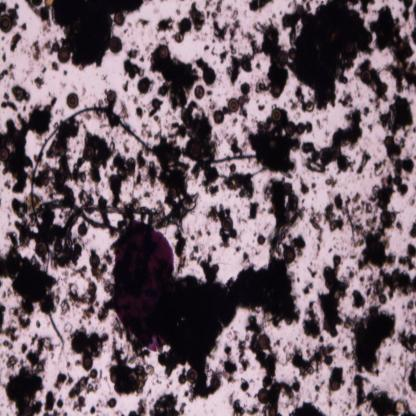Background material: (280, 0, 373, 110), (50, 0, 112, 69), (0, 246, 59, 315), (371, 7, 416, 90), (344, 305, 396, 374), (150, 135, 196, 208), (249, 117, 300, 175), (149, 51, 200, 107), (264, 180, 299, 260), (0, 115, 33, 196), (318, 108, 363, 164), (176, 102, 218, 162), (255, 18, 288, 88), (38, 211, 80, 265), (319, 266, 348, 336), (355, 223, 398, 270), (109, 344, 149, 394), (81, 130, 115, 183), (6, 368, 43, 414), (365, 270, 416, 302), (292, 342, 335, 378), (379, 95, 414, 138), (260, 374, 293, 416), (356, 59, 390, 99), (10, 197, 37, 247), (376, 174, 400, 230), (19, 332, 53, 371), (208, 204, 237, 249), (26, 97, 58, 137), (54, 157, 82, 201), (48, 121, 80, 159), (367, 391, 416, 415), (70, 329, 109, 356), (386, 146, 416, 177), (149, 392, 189, 415), (68, 280, 100, 308), (324, 193, 346, 233), (346, 195, 376, 224), (303, 301, 323, 344), (223, 174, 256, 200), (0, 301, 20, 343), (89, 264, 114, 295), (308, 204, 323, 254), (228, 53, 252, 84), (112, 152, 136, 181), (232, 372, 255, 401), (36, 166, 56, 198), (223, 345, 239, 385), (240, 30, 262, 58), (350, 375, 370, 405), (188, 1, 206, 34), (295, 83, 314, 112), (79, 303, 109, 321), (397, 327, 416, 355), (397, 244, 416, 272), (107, 175, 123, 208), (69, 378, 98, 396), (290, 400, 326, 414), (111, 0, 144, 14), (122, 59, 145, 79), (164, 121, 188, 139), (230, 9, 239, 56), (225, 132, 244, 154), (304, 157, 326, 176), (39, 0, 54, 27), (349, 0, 376, 15), (210, 21, 228, 43), (228, 392, 245, 415), (127, 397, 148, 415), (146, 162, 159, 190), (406, 360, 416, 396), (1, 92, 18, 113), (350, 288, 366, 310), (399, 0, 414, 23), (174, 232, 188, 256), (358, 148, 371, 173), (207, 1, 224, 20), (156, 18, 176, 34), (12, 84, 30, 101), (200, 182, 220, 197), (148, 97, 163, 117), (248, 0, 273, 12), (71, 394, 87, 412), (55, 368, 67, 392), (9, 32, 23, 52), (97, 115, 116, 129), (30, 40, 42, 62), (139, 122, 153, 140), (117, 100, 129, 121), (44, 390, 56, 411), (153, 116, 163, 140), (56, 298, 71, 314), (247, 202, 260, 220), (190, 245, 202, 264), (9, 3, 18, 28), (373, 159, 387, 174), (218, 48, 229, 66), (134, 170, 145, 188), (325, 174, 339, 188), (301, 139, 316, 152), (70, 266, 86, 278), (302, 281, 314, 297), (18, 316, 31, 330), (126, 47, 140, 60), (188, 228, 203, 240), (300, 178, 310, 196), (6, 354, 17, 370), (407, 219, 416, 238), (2, 336, 14, 350), (290, 380, 302, 394), (136, 16, 151, 27), (48, 57, 59, 72), (137, 150, 146, 168), (195, 58, 208, 70), (42, 39, 52, 54), (8, 62, 15, 82), (63, 320, 73, 334), (239, 107, 249, 120), (410, 24, 416, 45), (308, 266, 318, 278), (34, 76, 44, 88), (66, 372, 74, 386), (406, 297, 414, 311), (240, 252, 250, 263), (299, 204, 305, 222), (283, 183, 292, 195), (362, 105, 371, 117), (0, 2, 8, 15), (256, 102, 266, 112), (135, 107, 144, 118), (311, 182, 318, 196), (122, 80, 129, 93), (0, 69, 8, 80), (132, 94, 139, 106), (88, 405, 97, 414), (20, 22, 27, 32), (56, 396, 63, 406), (202, 44, 210, 52), (1, 51, 6, 63), (367, 124, 374, 132), (349, 270, 355, 279), (41, 66, 47, 74), (274, 340, 280, 348)
Cotton: (30, 106, 265, 341)
Diatom: (158, 257, 303, 375), (57, 46, 72, 64), (0, 14, 13, 34), (108, 36, 122, 54), (35, 240, 48, 258), (203, 67, 216, 84), (186, 366, 198, 384), (258, 332, 270, 350), (179, 17, 193, 32), (205, 166, 218, 182), (84, 145, 95, 163), (284, 245, 295, 263), (278, 50, 291, 65), (284, 121, 296, 137), (360, 69, 372, 85), (67, 92, 79, 108), (138, 78, 150, 93), (158, 44, 170, 59), (114, 12, 126, 26), (166, 186, 178, 200), (221, 217, 233, 231), (329, 376, 341, 390), (0, 146, 10, 162), (195, 84, 205, 100), (213, 110, 225, 123), (337, 158, 349, 171), (228, 98, 239, 112), (271, 108, 282, 122), (210, 376, 221, 390), (295, 122, 307, 134), (89, 254, 100, 267), (271, 84, 282, 96), (258, 390, 269, 402), (82, 358, 93, 370), (240, 82, 250, 95), (78, 224, 88, 237), (324, 354, 334, 366), (288, 48, 297, 61), (106, 90, 116, 101), (158, 86, 168, 97), (384, 137, 394, 148), (257, 234, 266, 245), (378, 294, 387, 305), (332, 254, 341, 265), (228, 162, 236, 174), (306, 122, 314, 134), (176, 32, 185, 42), (51, 42, 60, 52), (178, 373, 186, 384), (400, 184, 408, 195), (89, 370, 98, 379), (108, 398, 116, 408), (31, 0, 43, 6), (239, 96, 246, 105), (312, 152, 318, 162)
Pen: (112, 222, 174, 352)
